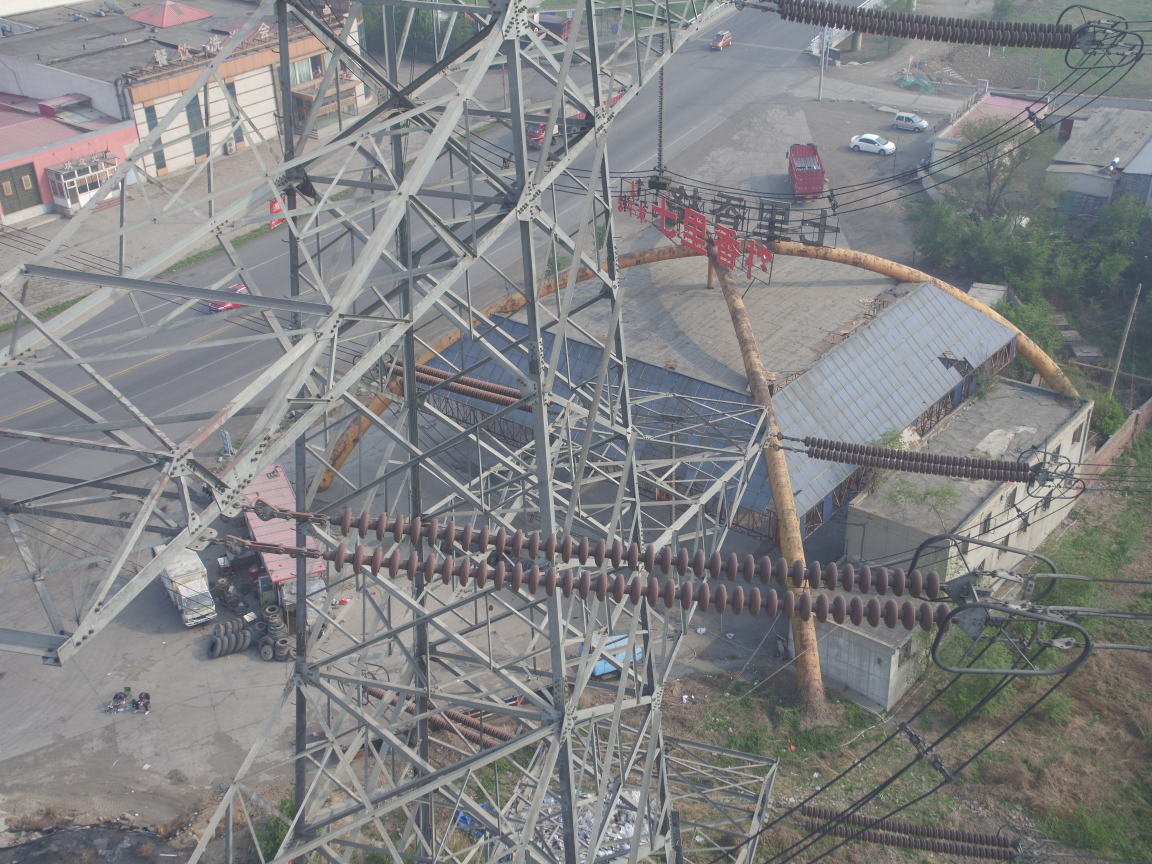insulator: (286, 503, 966, 638), (758, 1, 1086, 53), (780, 798, 1022, 860), (786, 432, 1040, 489)
